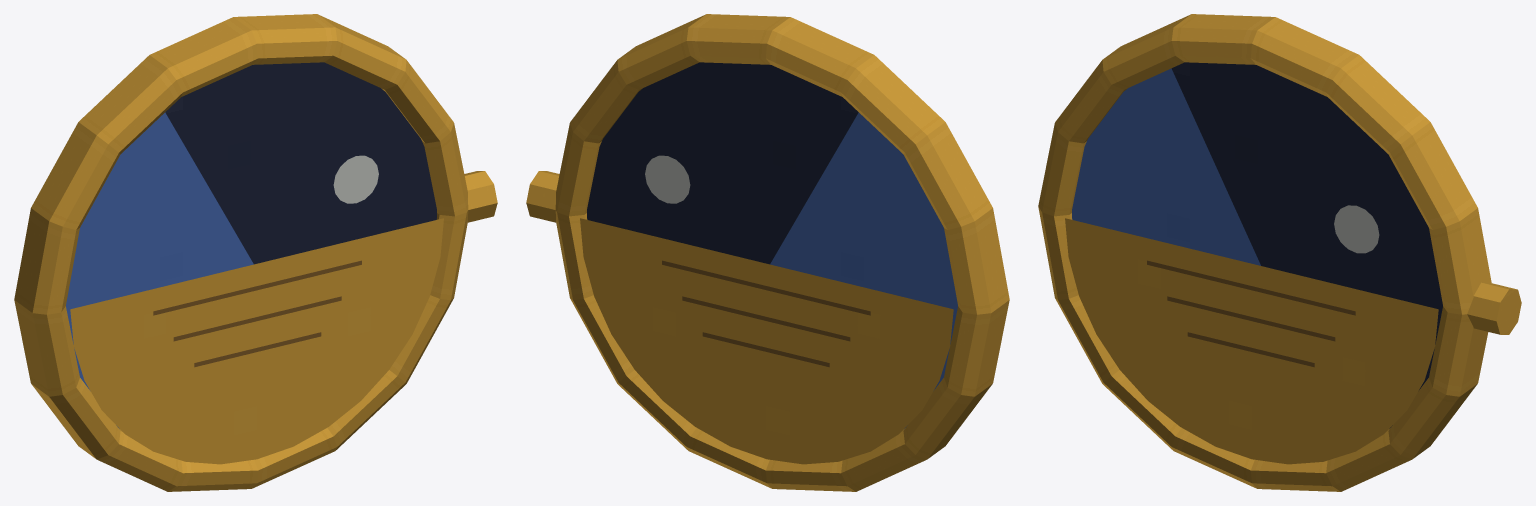
File: clock_43.obj
3 renders of one model, left to right at view 1: azimuth 30°, elevation 25°; view 2: azimuth 150°, elevation 25°; view 3: azimuth 330°, elevation 25°, orthographic.
Bounding box in the file's own units: 0.6363 × 0.6037 × 0.075.
